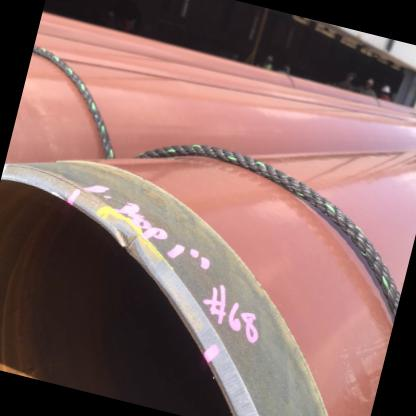Bevel: (109, 219, 158, 279)
